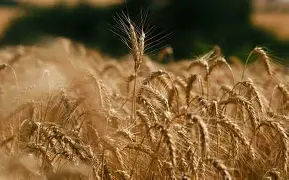crops: (0, 31, 286, 178)
